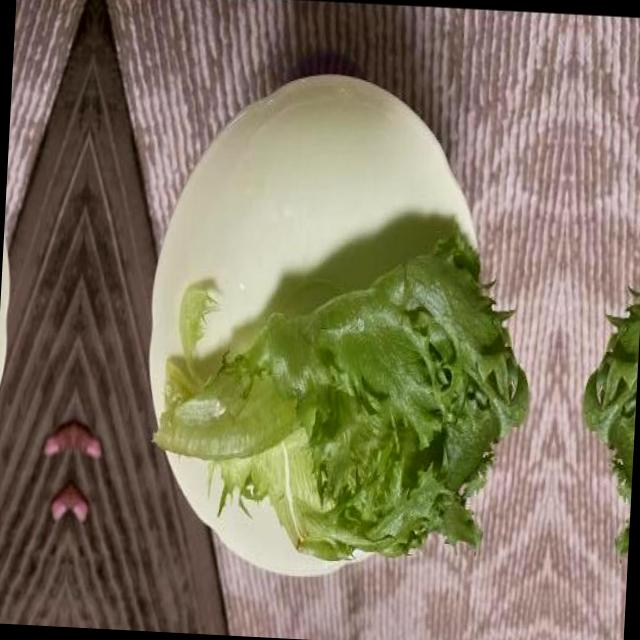healthy: (145, 215, 537, 572), (575, 238, 640, 578), (0, 207, 8, 545)
